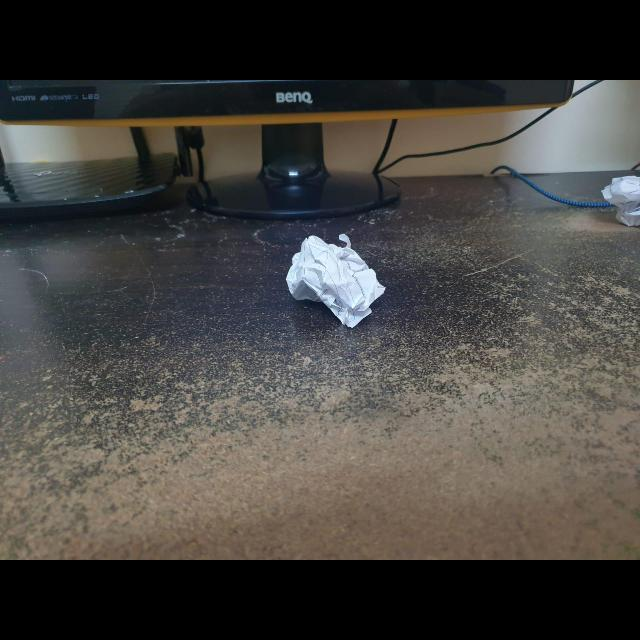scrap_paper: (284, 230, 384, 334)
